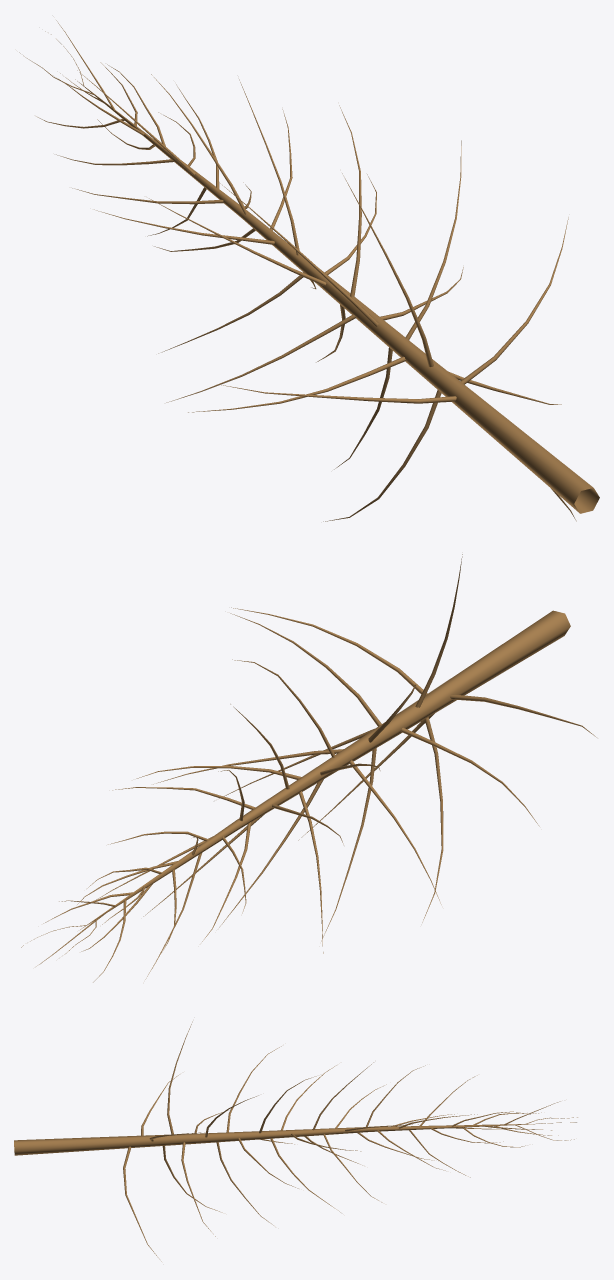
File: tree.fbx
3 renders of one model, top to bottom at view 1: azimuth 30°, elevation 25°; view 2: azimuth 150°, elevation 25°; view 3: azimuth 270°, elevation 25°, orthographic. The views are drawn at different scales.
Parts seen in each view (by area): view 1: tree; view 2: tree; view 3: tree.
Part boxes in pixels (left/top/right/bottom): tree: left=19, top=20, right=599, bottom=521; tree: left=21, top=554, right=596, bottom=982; tree: left=14, top=1021, right=577, bottom=1261.
Size of the model in its own units: 16.57 by 6.19 by 6.5.
